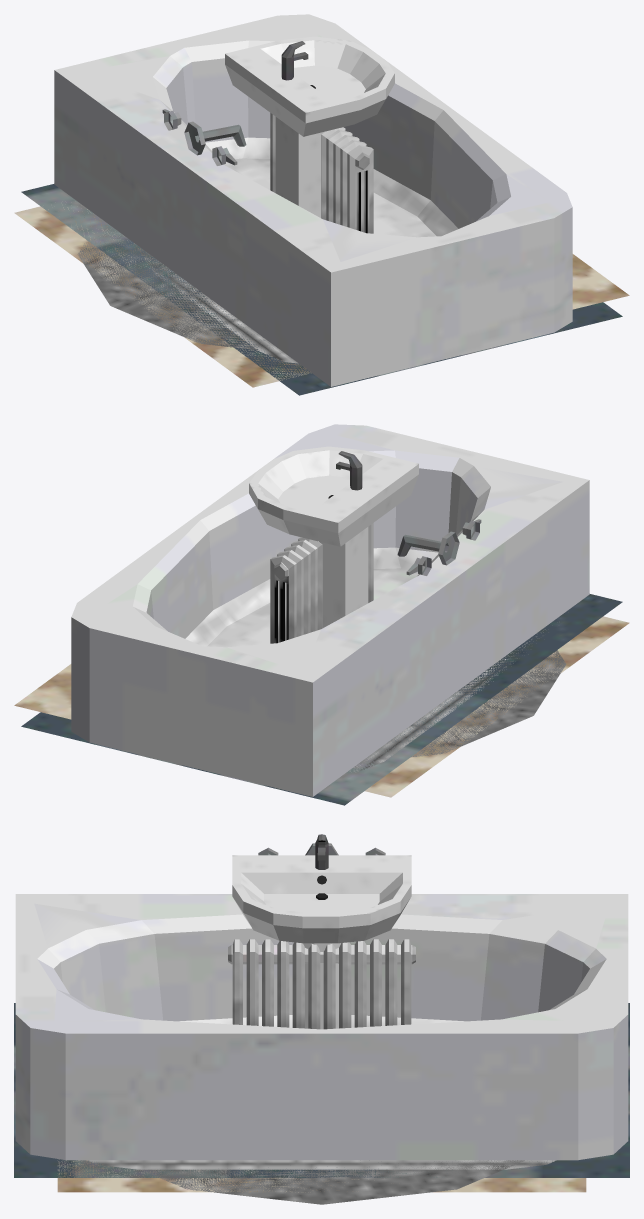
The model's file is InteriorFixtures_Models.fbx.
The picture shows the model from 3 angles, top to bottom: view 1: azimuth 30°, elevation 25°; view 2: azimuth 150°, elevation 25°; view 3: azimuth 270°, elevation 25°; orthographic projection. The views are drawn at different scales.
Parts seen in each view (by area): view 1: HouseProps_bathtub, HouseProps_bathroomSink2, HouseProps_carpet, HouseProps_carpet4, HouseProps_carpet2, HouseProps_radiator, HouseProps_carpet3; view 2: HouseProps_bathtub, HouseProps_bathroomSink2, HouseProps_carpet, HouseProps_carpet2, HouseProps_radiator, HouseProps_carpet4, HouseProps_carpet3; view 3: HouseProps_bathtub, HouseProps_bathroomSink2, HouseProps_radiator, HouseProps_carpet4, HouseProps_carpet, HouseProps_carpet2, HouseProps_carpet3.
Part boxes in pixels (box(x1,y1,x2,y2)): HouseProps_bathtub: box(54, 14, 572, 386); HouseProps_bathroomSink2: box(225, 36, 394, 217); HouseProps_carpet: box(21, 184, 622, 395); HouseProps_carpet4: box(77, 225, 259, 350); HouseProps_carpet2: box(14, 206, 629, 387); HouseProps_radiator: box(270, 113, 373, 233); HouseProps_carpet3: box(87, 208, 298, 363); HouseProps_bathtub: box(71, 424, 589, 796); HouseProps_bathroomSink2: box(249, 446, 418, 627); HouseProps_carpet: box(21, 594, 622, 805); HouseProps_carpet2: box(14, 616, 629, 797); HouseProps_radiator: box(270, 523, 373, 643); HouseProps_carpet4: box(411, 650, 566, 756); HouseProps_carpet3: box(349, 629, 548, 772); HouseProps_bathtub: box(15, 843, 628, 1160); HouseProps_bathroomSink2: box(232, 834, 411, 1029); HouseProps_radiator: box(228, 939, 415, 1029); HouseProps_carpet4: box(141, 1160, 524, 1204); HouseProps_carpet: box(14, 1003, 629, 1177); HouseProps_carpet2: box(57, 1160, 586, 1192); HouseProps_carpet3: box(87, 1160, 556, 1169).
Bounding box in the file's own units: 2.48 × 1.21 × 2.82.
1 material, 1 textured.
